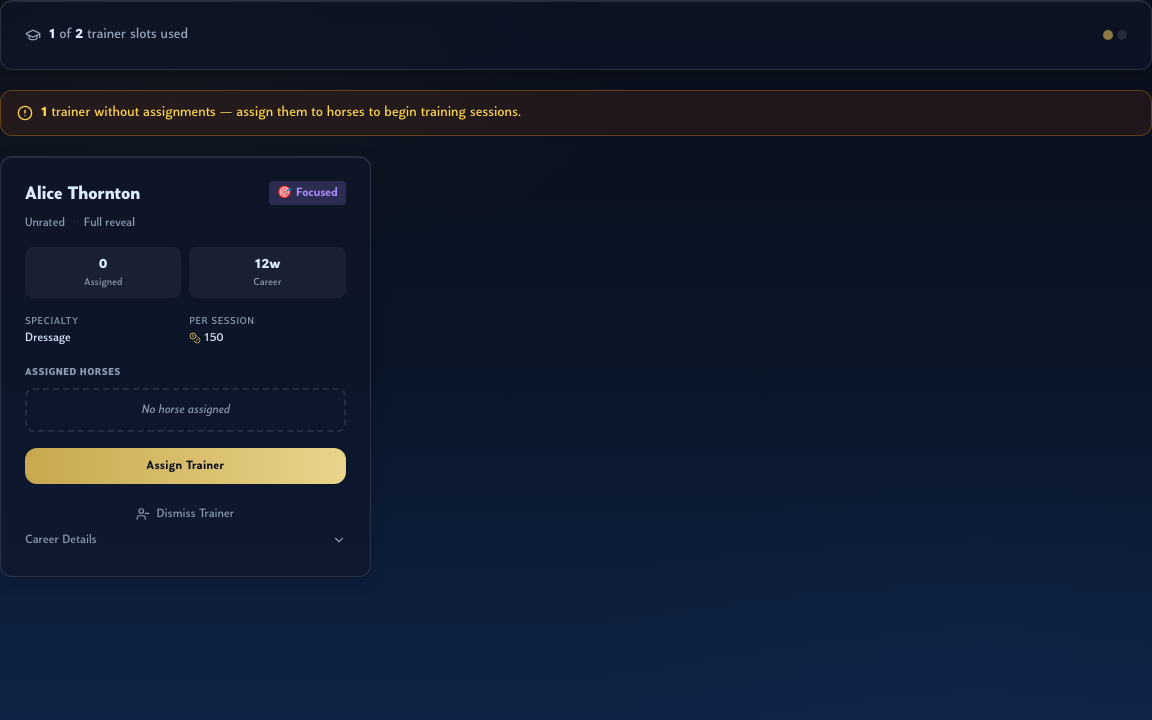
Test: MyTrainersDashboard — horse picker (Equoria-gpnck) › a failed horses fetch shows an error with retry — never "No horses available."
Click the button "Assign Trainer".
click(185, 466)  # box [25,448,346,484]
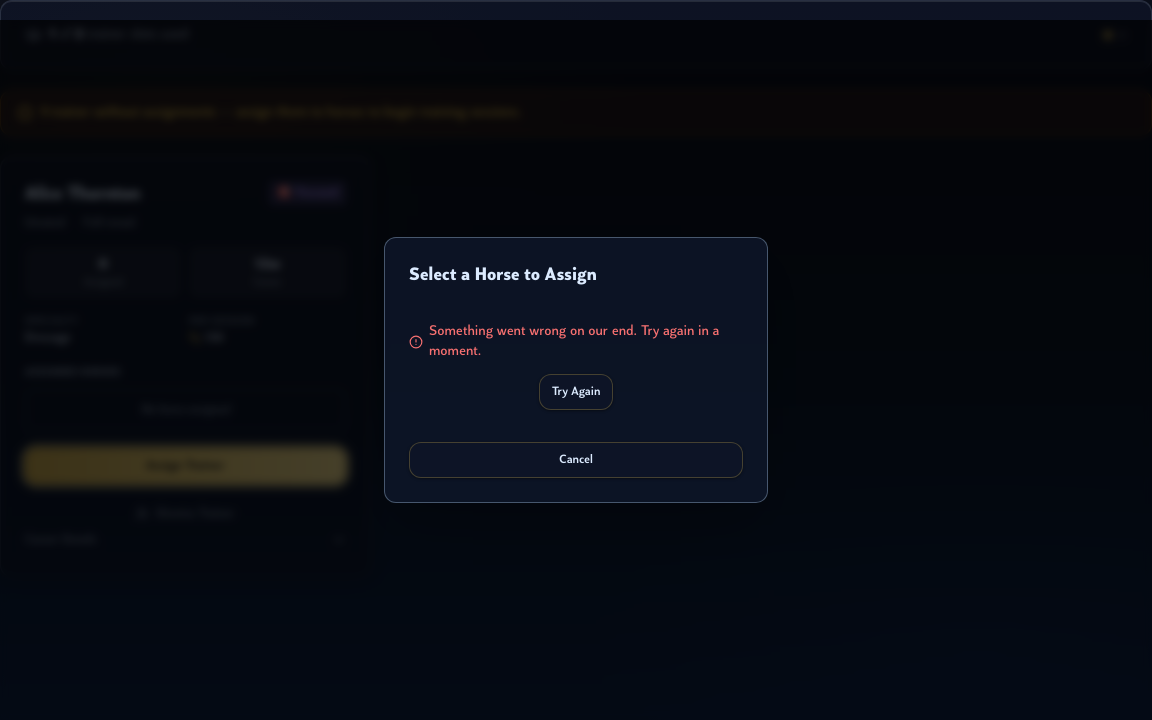
Check: the message shows "Something went wrong", box [429,324,719,359]
Check: the button "Try Again" is shown, box [539,374,613,410]
